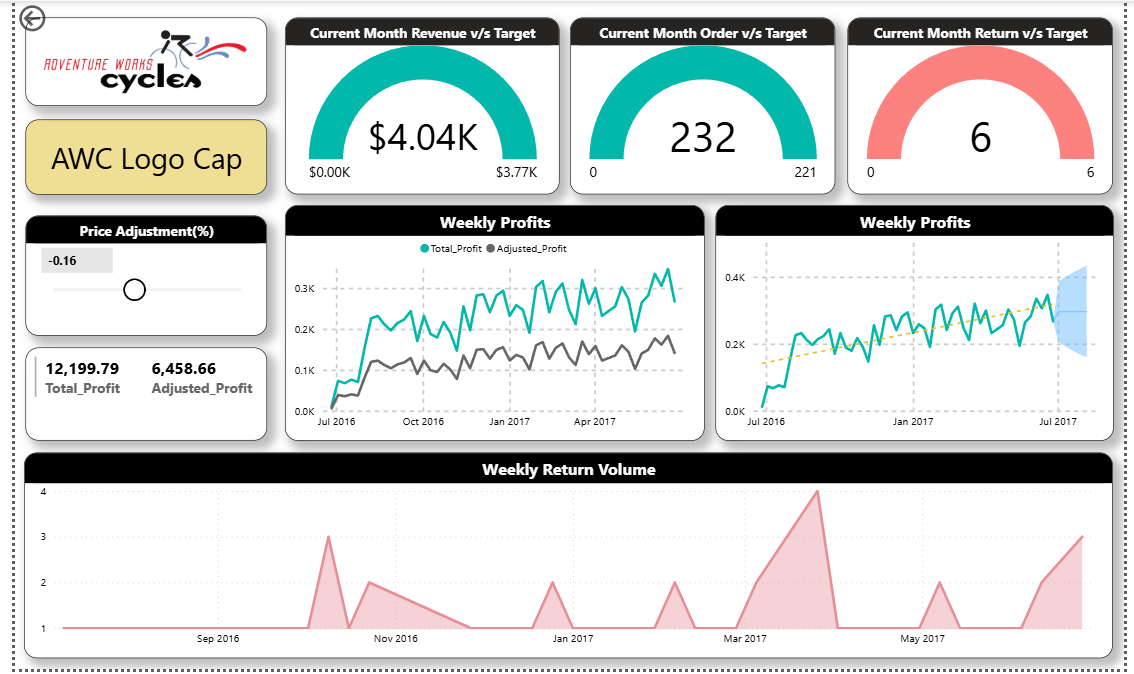

This screenshot's page, from the dashboard's own definition file:
{"tool":"powerbi","page":{"name":"Product Detail","canvas":[1280,770],"ordinal":2},"visuals":[{"type":"gauge","title":"Current Month Revenue v/s Target ","fields":{"Y":["AW_Sales_Data_2015_17.Total_Revenue"],"MaxValue":["AW_Sales_Data_2015_17.Revenue_target"]},"box":[311.5,19,316.7,204.2],"z":0},{"type":"actionButton","box":[0,0,100,40],"z":1},{"type":"gauge","title":"Current Month Order v/s Target ","fields":{"Y":["AW_Sales_Data_2015_17.Total_Order"],"MaxValue":["AW_Sales_Data_2015_17.Order_target"]},"box":[640.7,19.4,305.8,203.9],"z":2},{"type":"gauge","title":"Current Month Return v/s Target ","fields":{"Y":["AW_Returns.Total_Return"],"MaxValue":["AW_Returns.Return_Target"]},"box":[961.1,19.4,305.8,203.9],"z":3},{"type":"lineChart","title":"Weekly Profits","fields":{"Category":["AW_Calendar.Start of Week"],"Y":["AW_Sales_Data_2015_17.Total_Profit","AW_Sales_Data_2015_17.Adjusted_Profit"]},"box":[310.7,234.6,483.8,271.8],"z":5},{"type":"lineChart","title":"Weekly Profits","fields":{"Category":["AW_Calendar.Start of Week"],"Y":["AW_Sales_Data_2015_17.Total_Profit"]},"box":[807.4,234.6,459.5,271.8],"z":6},{"type":"stackedAreaChart","title":"Weekly Return Volume","fields":{"Category":["AW_Calendar.Start of Week"],"Y":["AW_Returns.Total_Return"]},"box":[10.4,520.8,1256.2,237.1],"z":7},{"type":"card","fields":{"Values":["Min(AW_Products.ProductName)"]},"box":[12.1,136.7,278.6,86.5],"z":8},{"type":"image","box":[12.1,19,278.6,102.1],"z":9},{"type":"slicer","title":"Price Adjustment(%)","fields":{"Values":["Price_Adjustment(%).Price_Adjustment(%)"]},"box":[12.1,247.4,278.6,138.4],"z":10},{"type":"multiRowCard","fields":{"Values":["AW_Sales_Data_2015_17.Total_Profit","AW_Sales_Data_2015_17.Adjusted_Profit"]},"box":[12.1,399.7,278.6,107.3],"z":11}]}

Visuals, with their boxes in screenshot pixels (x1, y1, x2, y2), scaled from the page's 1280x770 canvas onto the 1134x674 screenshot:
"Current Month Revenue v/s Target " gauge: left=276, top=17, right=557, bottom=195
actionButton: left=0, top=0, right=89, bottom=35
"Current Month Order v/s Target " gauge: left=568, top=17, right=839, bottom=195
"Current Month Return v/s Target " gauge: left=851, top=17, right=1122, bottom=195
"Weekly Profits" lineChart: left=275, top=205, right=704, bottom=443
"Weekly Profits" lineChart: left=715, top=205, right=1122, bottom=443
"Weekly Return Volume" stackedAreaChart: left=9, top=456, right=1122, bottom=663
card - Min(AW_Products.ProductName): left=11, top=120, right=258, bottom=195
image: left=11, top=17, right=258, bottom=106
"Price Adjustment(%)" slicer: left=11, top=217, right=258, bottom=338
multiRowCard - AW_Sales_Data_2015_17.Total_Profit x AW_Sales_Data_2015_17.Adjusted_Profit: left=11, top=350, right=258, bottom=444
